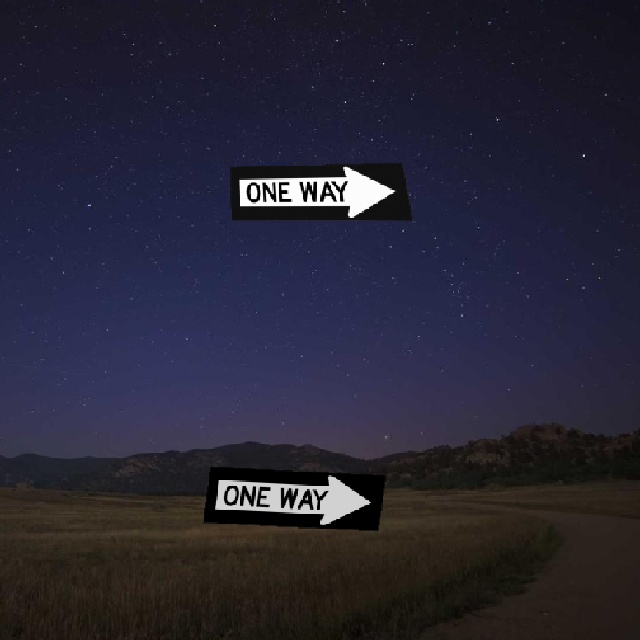ONE_WAY_ right: (201, 465, 385, 530), (228, 161, 412, 220)
